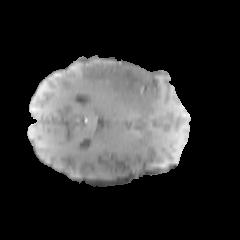glioma: (48, 59, 157, 105)
